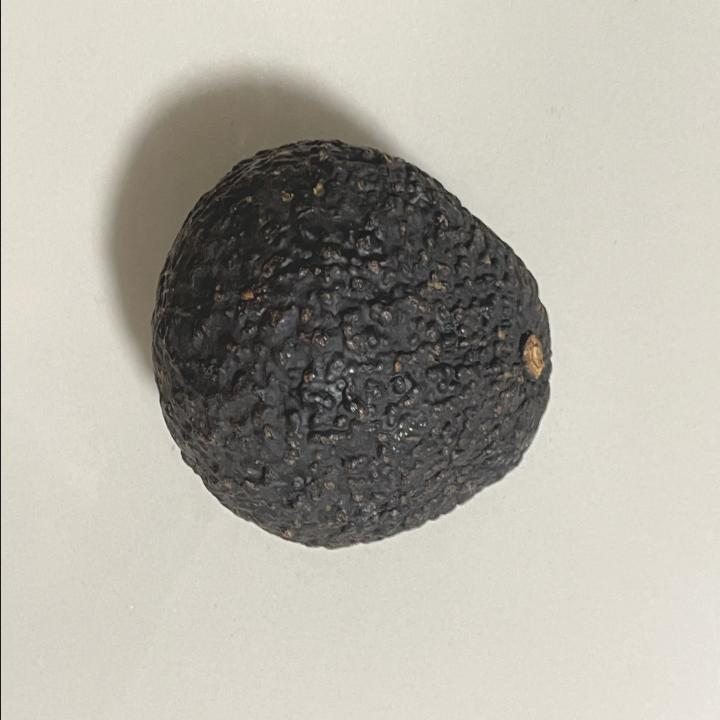Level3: (143, 129, 563, 560)
